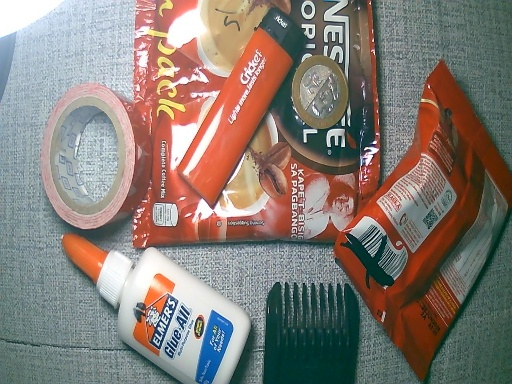metal: (290, 56, 349, 133)
plastic: (134, 1, 386, 256), (331, 53, 508, 384)
trash: (54, 232, 252, 384), (170, 13, 305, 206), (36, 82, 148, 236), (265, 281, 359, 384)
